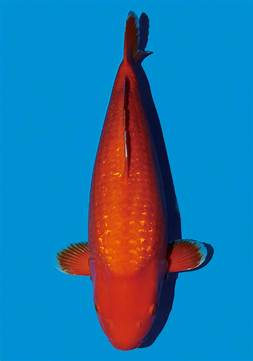red: (56, 9, 207, 351)
